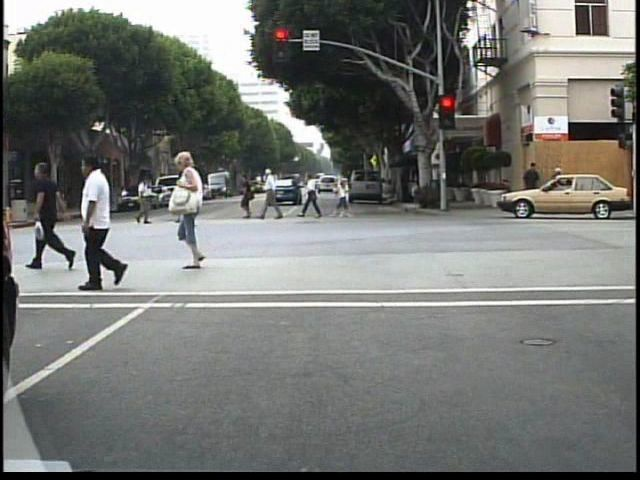person: (96, 147, 172, 294), (173, 150, 230, 270), (28, 156, 83, 277), (260, 166, 289, 222), (134, 173, 158, 225), (303, 169, 326, 223), (236, 171, 259, 222), (521, 158, 542, 208), (4, 185, 24, 236), (546, 160, 565, 213), (14, 195, 34, 238), (186, 171, 191, 228)
